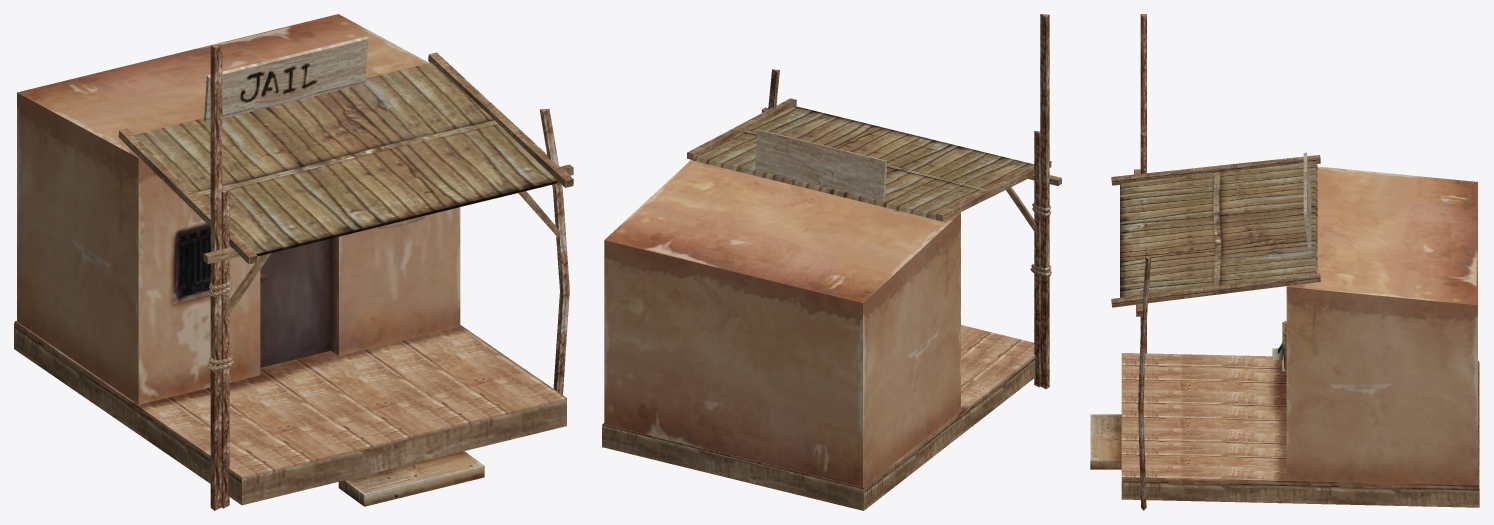
The model's file is Jail.FBX.
3 views of the same model, side by side, from view 1: azimuth 30°, elevation 25°; view 2: azimuth 150°, elevation 25°; view 3: azimuth 270°, elevation 25° (orthographic). The views are drawn at different scales.
Visible parts, largest first — view 1: Jail; view 2: Jail; view 3: Jail.
Boxes of the visible parts, x1,y1,x2,y2 form: Jail: [14, 14, 573, 510]; Jail: [602, 14, 1061, 510]; Jail: [1090, 14, 1479, 510].
Size of the model in its own units: 480 by 579 by 560.
Materials: 1 (1 with a texture image).
